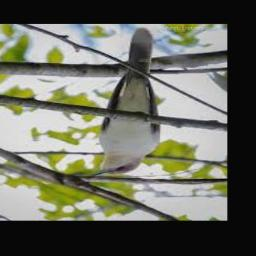Cuckoo: (89, 28, 159, 176)
